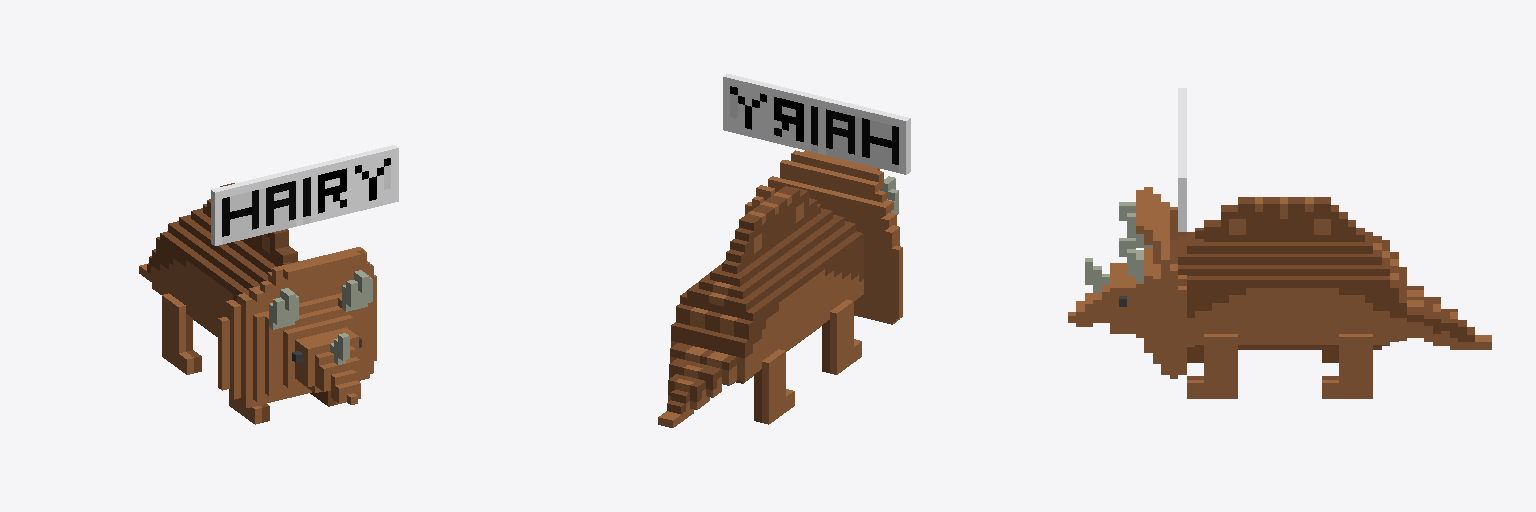
3 renders of one model, left to right at view 1: azimuth 30°, elevation 25°; view 2: azimuth 150°, elevation 25°; view 3: azimuth 270°, elevation 25°, orthographic.
Parts seen in each view (by area): view 1: Matrix_30; view 2: Matrix_30; view 3: Matrix_30.
Boxes of the visible parts, x1,y1,x2,y2 form: Matrix_30: [139, 145, 398, 424]; Matrix_30: [658, 73, 910, 427]; Matrix_30: [1068, 88, 1491, 398].
Bounding box in the file's own units: 25 × 32 × 50.
1 materials, 1 textured.